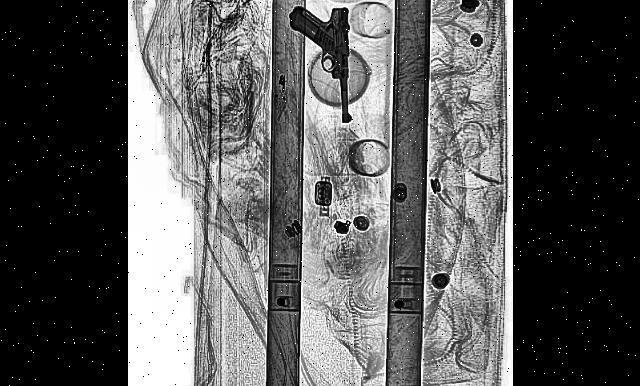Gun: (290, 6, 348, 124)
